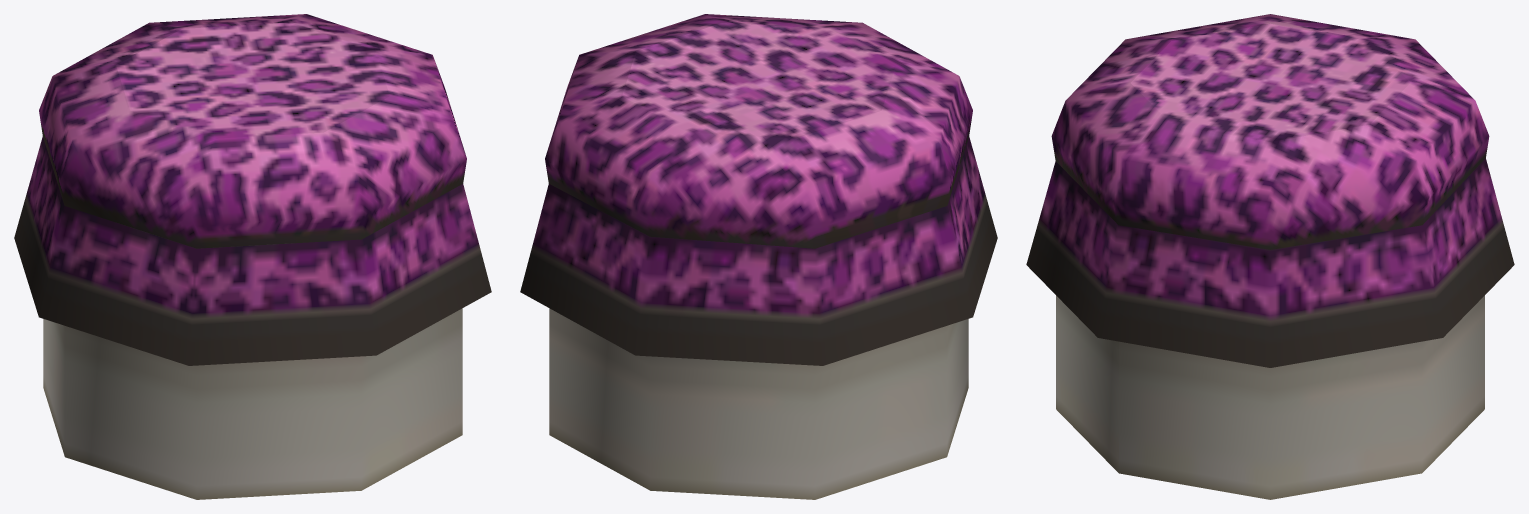
File: furni_0200095_02.FBX
3 views of the same model, side by side, from view 1: azimuth 30°, elevation 25°; view 2: azimuth 150°, elevation 25°; view 3: azimuth 270°, elevation 25° (orthographic).
Parts seen in each view (by area): view 1: furni_0200095_02; view 2: furni_0200095_02; view 3: furni_0200095_02.
Part boxes in pixels (x1=…): furni_0200095_02: x1=14, y1=14, x2=491, y2=499; furni_0200095_02: x1=520, y1=14, x2=997, y2=499; furni_0200095_02: x1=1026, y1=14, x2=1514, y2=499.
Size of the model in its own units: 61 by 45 by 61.
1 material, 1 textured.
